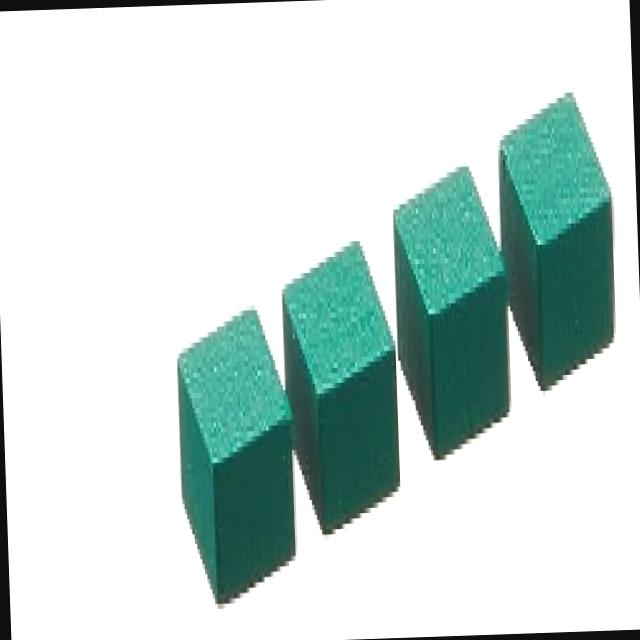green cube: (177, 304, 297, 609), (280, 236, 402, 536), (497, 89, 616, 391), (392, 162, 511, 461)
